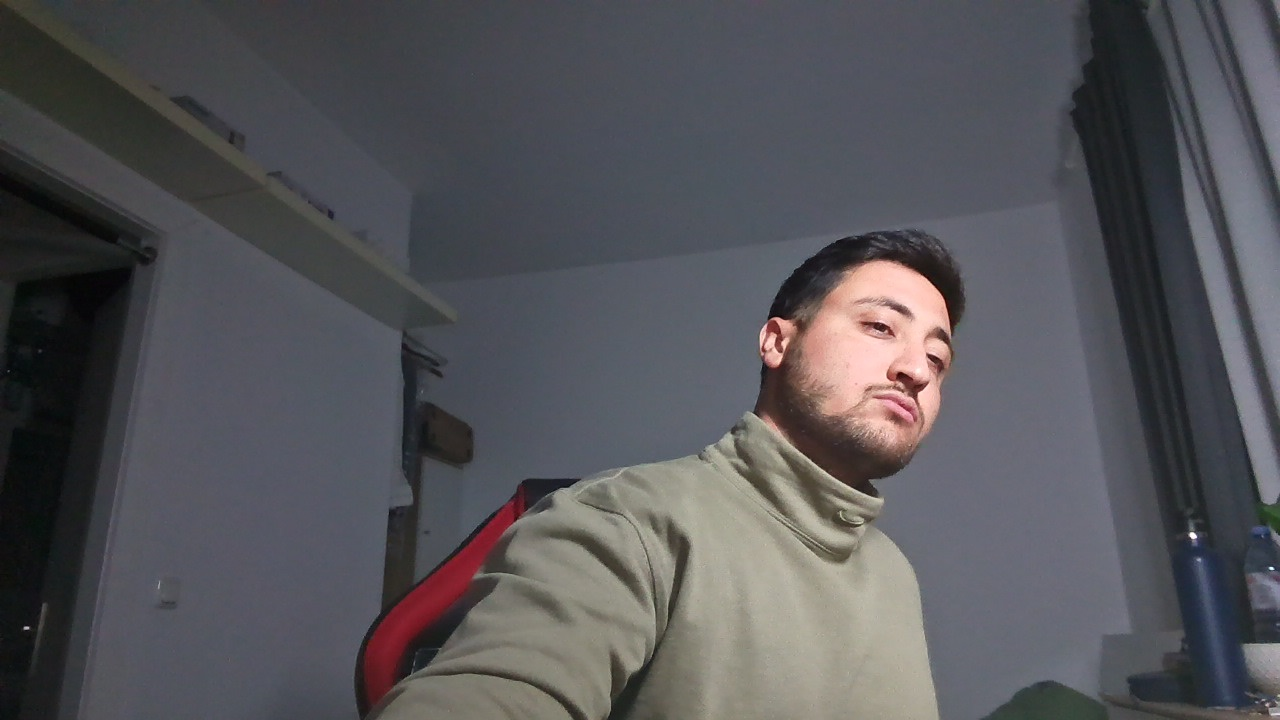Wasserflasche: (1139, 493, 1249, 707)
me: (708, 174, 988, 528)
